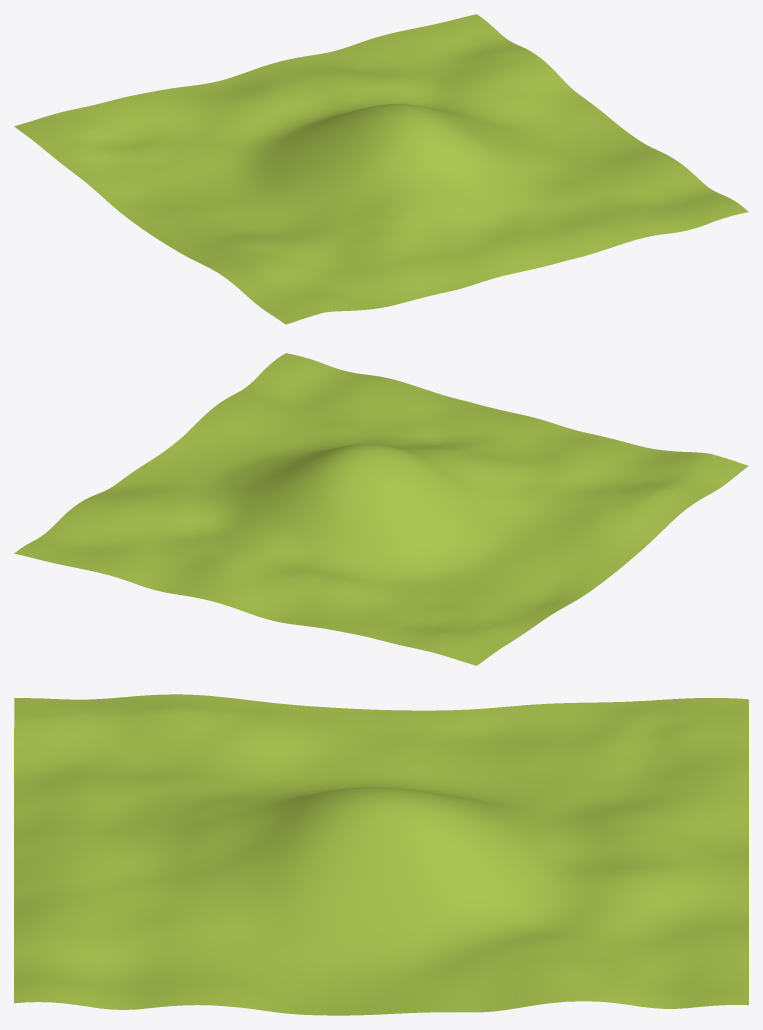
File: bosse_pos4.fbx
The picture shows the model from 3 angles, top to bottom: view 1: azimuth 30°, elevation 25°; view 2: azimuth 150°, elevation 25°; view 3: azimuth 270°, elevation 25°; orthographic projection. The views are drawn at different scales.
Visible parts, largest first — view 1: bosse_pos4; view 2: bosse_pos4; view 3: bosse_pos4.
Boxes of the visible parts, x1,y1,x2,y2 form: bosse_pos4: [14, 14, 748, 324]; bosse_pos4: [14, 353, 748, 665]; bosse_pos4: [14, 694, 748, 1015].
Size of the model in its own units: 708 by 89.07 by 720.
